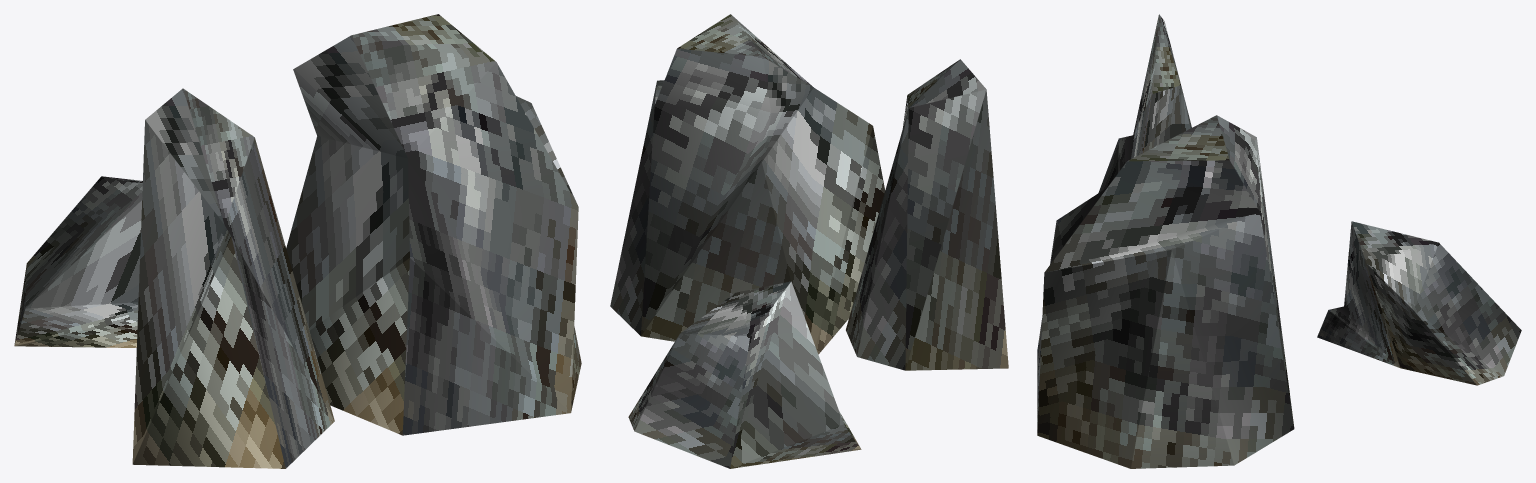
The model's file is Environment - Prop - Rock Cluster Large Snow 01 - Damaged - PMlsclusters_D.glb.
The picture shows the model from 3 angles, left to right: view 1: azimuth 30°, elevation 25°; view 2: azimuth 150°, elevation 25°; view 3: azimuth 270°, elevation 25°; orthographic projection. The views are drawn at different scales.
Visible parts, largest first — view 1: PMLSCLUSTERS_D; view 2: PMLSCLUSTERS_D; view 3: PMLSCLUSTERS_D.
Part boxes in pixels (left/top/right/bottom): PMLSCLUSTERS_D: left=14, top=14, right=581, bottom=468; PMLSCLUSTERS_D: left=610, top=14, right=1008, bottom=468; PMLSCLUSTERS_D: left=1037, top=14, right=1521, bottom=468.
Bounding box in the file's own units: 31.21 × 24.66 × 35.8.
Materials: 1 (1 with a texture image).
